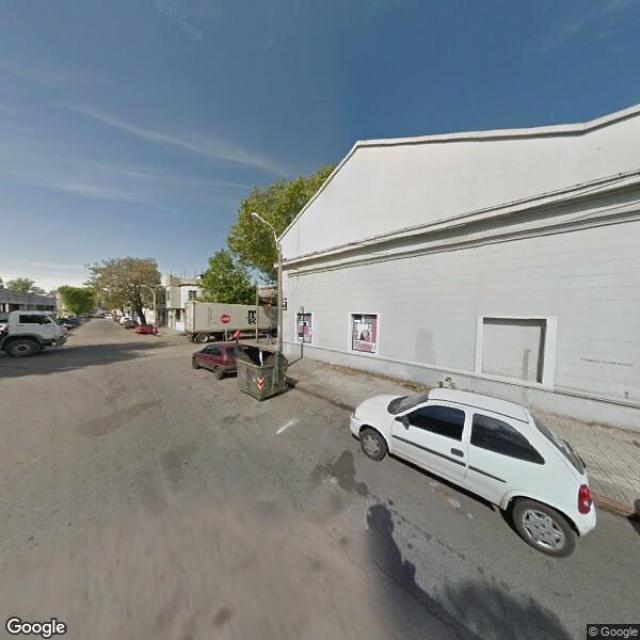garbage container: (228, 342, 298, 404)
